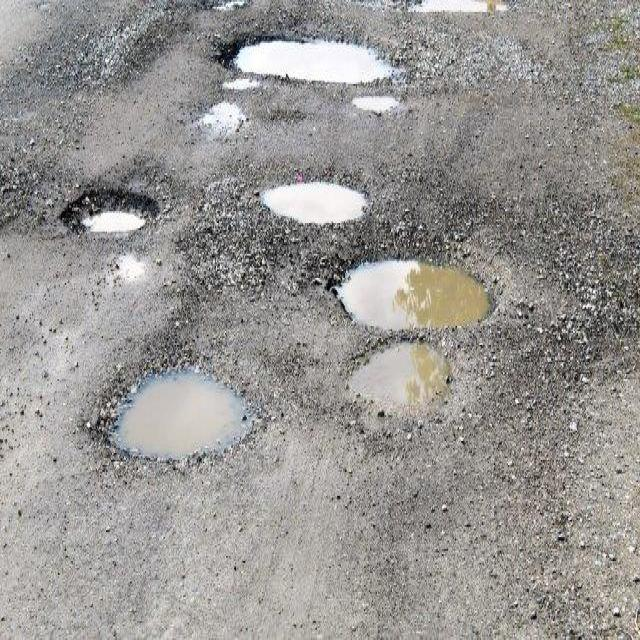lubang: (80, 360, 263, 479), (168, 172, 323, 306), (225, 14, 418, 98), (334, 252, 499, 343), (573, 0, 640, 214), (347, 330, 463, 420), (567, 297, 640, 408), (64, 180, 162, 254), (195, 69, 281, 143), (260, 175, 380, 227), (344, 80, 412, 127), (398, 0, 514, 14), (196, 0, 256, 23)
